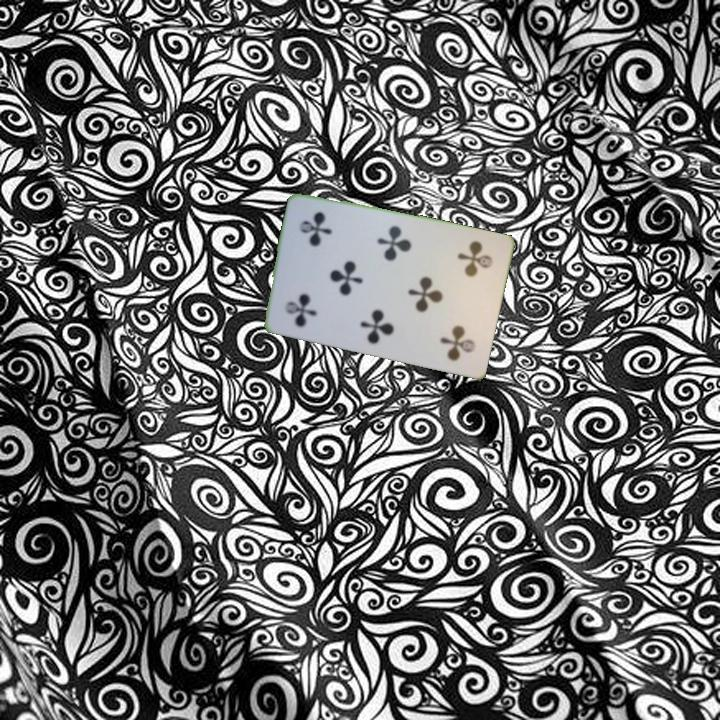c_8.png: (271, 258, 341, 335), (434, 232, 504, 309)
